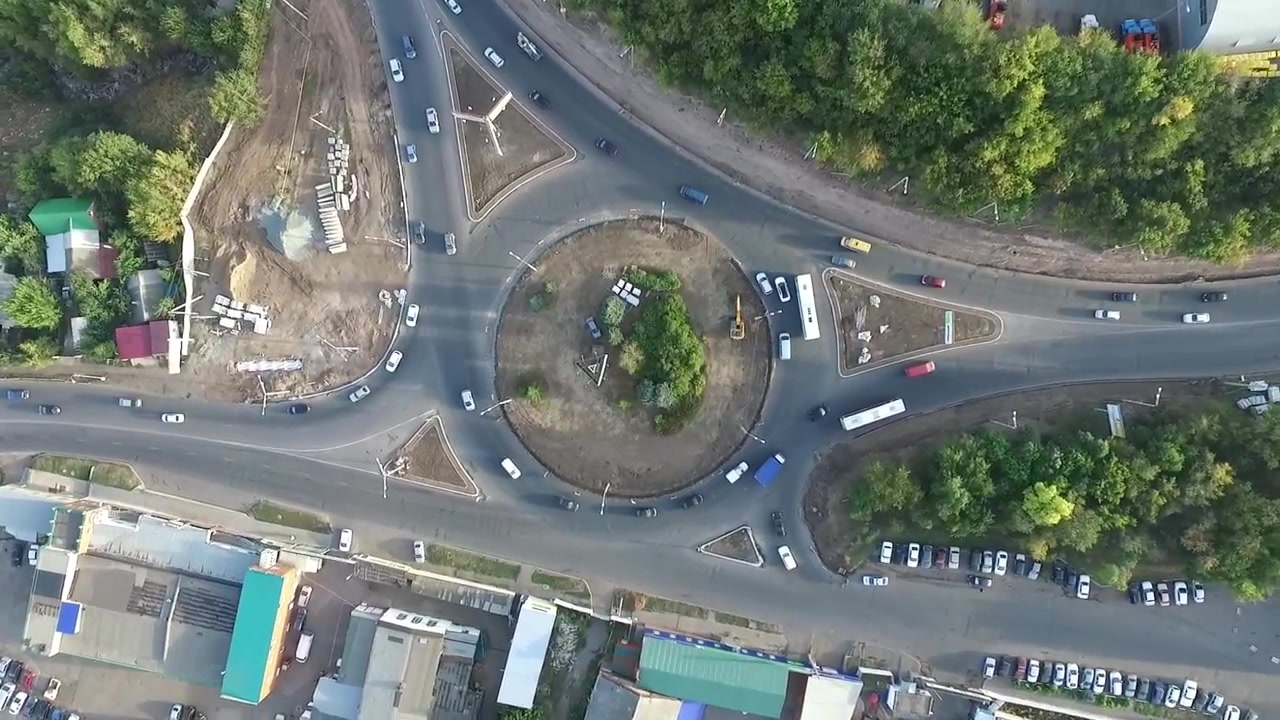car: (837, 396, 907, 432), (794, 272, 822, 342), (751, 451, 788, 488), (1120, 18, 1144, 58), (515, 31, 544, 63), (1138, 18, 1161, 57), (904, 359, 937, 380), (679, 184, 710, 206), (839, 235, 872, 255), (294, 631, 314, 664), (724, 460, 750, 485), (499, 456, 523, 481), (776, 544, 798, 571), (594, 136, 619, 158), (1180, 678, 1198, 708), (482, 46, 505, 69), (527, 88, 551, 110), (383, 349, 404, 374), (347, 383, 372, 403), (1, 680, 16, 713), (808, 402, 831, 423), (424, 106, 441, 134), (774, 275, 791, 303), (679, 493, 705, 511), (29, 698, 50, 720), (556, 495, 581, 513), (754, 271, 772, 296), (9, 690, 27, 715), (584, 315, 602, 339), (1155, 581, 1171, 608), (1206, 690, 1224, 714), (296, 584, 314, 608), (389, 57, 405, 83), (771, 511, 787, 537), (43, 677, 61, 700), (920, 274, 947, 289), (967, 573, 994, 588), (1173, 580, 1188, 607), (1080, 12, 1100, 32), (778, 332, 792, 360), (830, 255, 858, 269), (1080, 665, 1094, 693), (1093, 668, 1107, 696), (6, 659, 23, 682), (412, 219, 427, 245), (981, 654, 996, 680), (1181, 311, 1211, 324), (460, 388, 476, 412), (1026, 557, 1042, 581), (1141, 579, 1155, 606), (1191, 576, 1205, 603), (1109, 669, 1123, 696), (860, 574, 889, 587), (405, 303, 420, 328), (402, 35, 417, 60), (1165, 683, 1180, 708), (291, 608, 307, 631), (1124, 673, 1138, 699), (1151, 680, 1165, 706), (338, 528, 353, 552), (919, 543, 932, 570), (994, 550, 1007, 577), (1066, 663, 1079, 690), (1201, 291, 1228, 304), (443, 231, 457, 256), (879, 540, 893, 565), (1076, 574, 1090, 599), (20, 668, 35, 691), (1222, 703, 1242, 720), (286, 403, 312, 416), (968, 546, 981, 572), (1027, 657, 1040, 683), (412, 539, 426, 563), (634, 506, 658, 520), (894, 542, 907, 567), (37, 403, 62, 416), (907, 542, 919, 569), (11, 541, 23, 568), (443, 1, 463, 17), (1053, 662, 1065, 688), (1093, 309, 1121, 320), (1014, 656, 1026, 681), (1111, 291, 1138, 302), (934, 546, 946, 570), (948, 546, 960, 570), (999, 654, 1011, 678), (1013, 552, 1025, 576), (1052, 561, 1064, 585), (1129, 580, 1141, 604), (1137, 676, 1149, 700), (27, 543, 39, 567), (5, 390, 31, 401), (981, 550, 993, 573), (1064, 566, 1076, 589), (118, 397, 143, 408), (1, 655, 12, 680), (1041, 660, 1052, 684), (159, 413, 185, 423), (405, 144, 418, 164), (24, 695, 37, 714), (168, 703, 182, 720), (49, 707, 66, 720)
